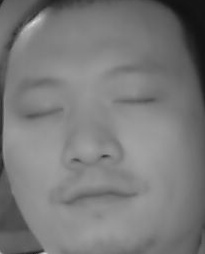blink: (24, 101, 62, 122), (112, 93, 155, 110)
mouth: (57, 180, 137, 216)
